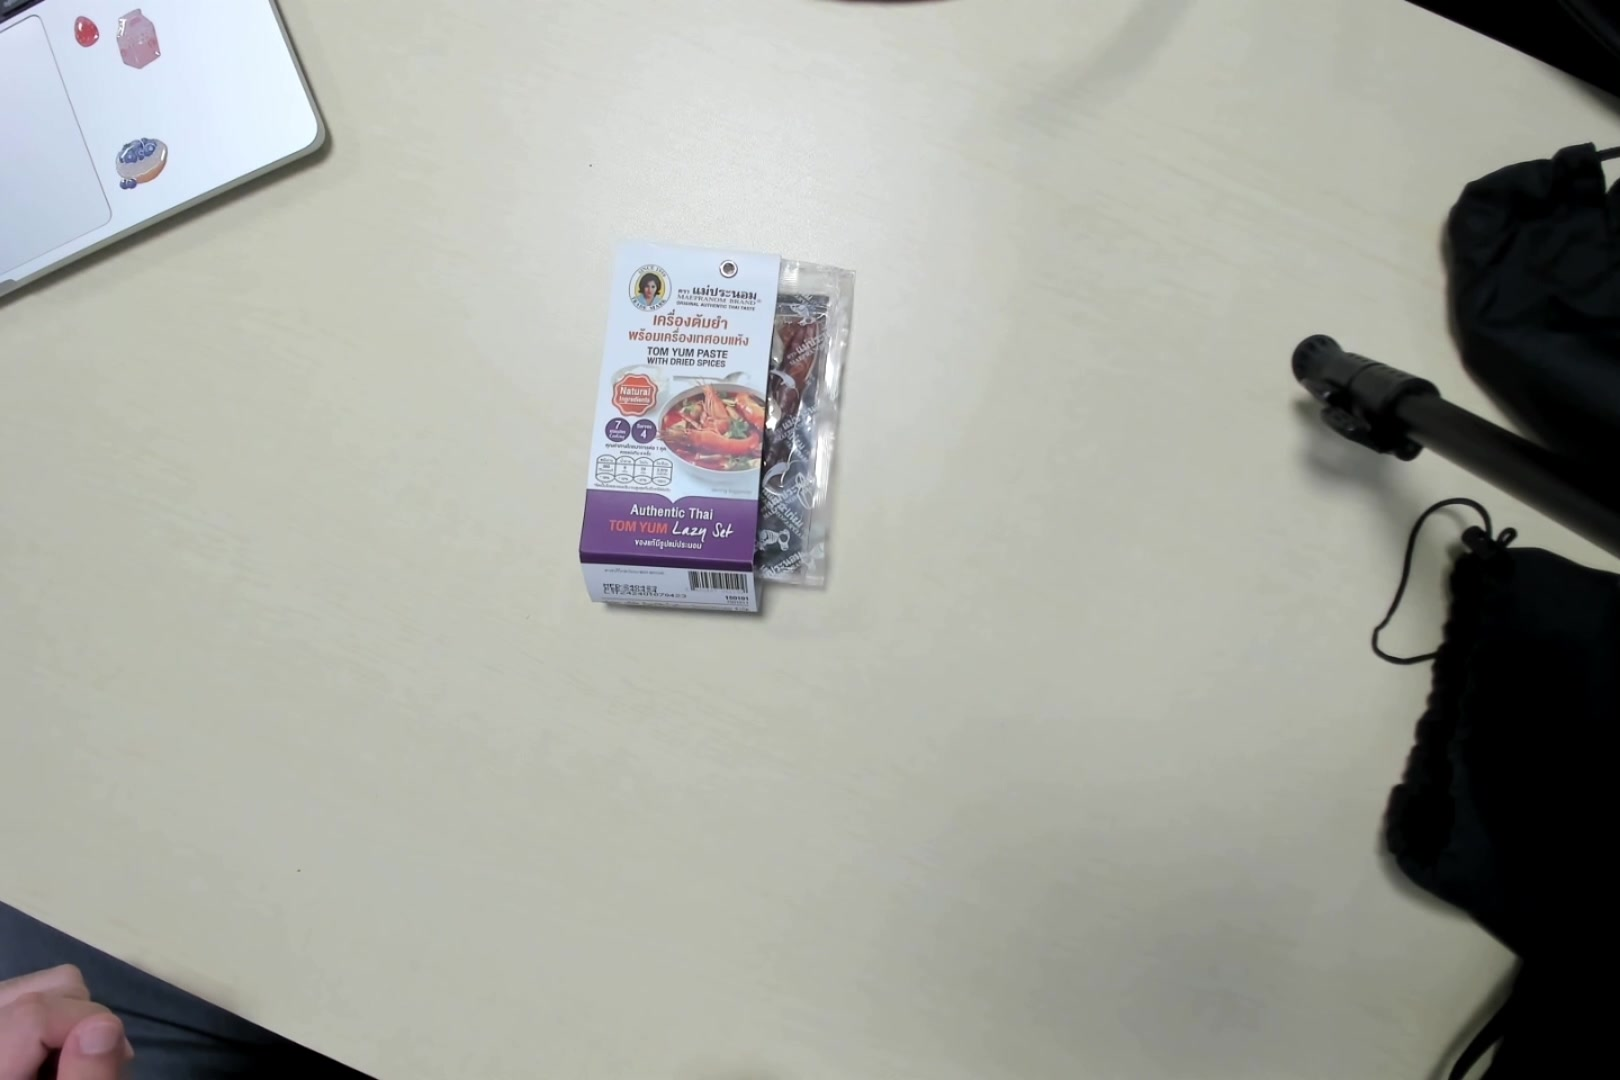OtherSauceDressingSoupBaswPaste_0-99g_Halal_NonHealthy: (564, 237, 868, 639)
